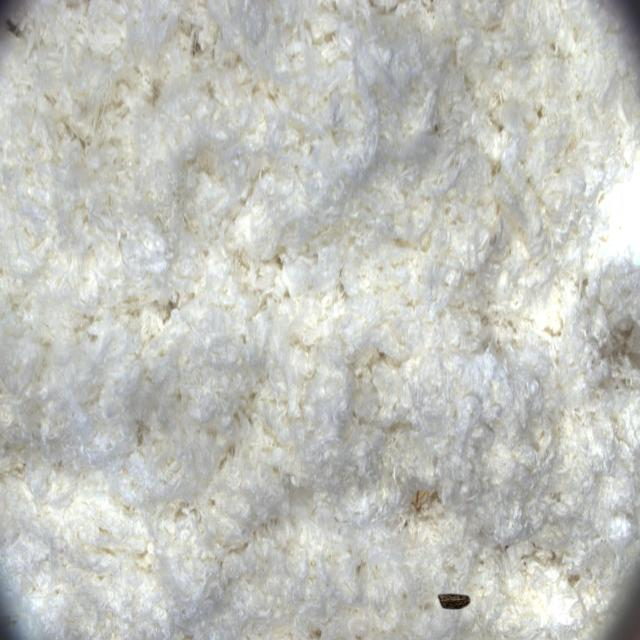dust: (414, 554, 499, 640)
